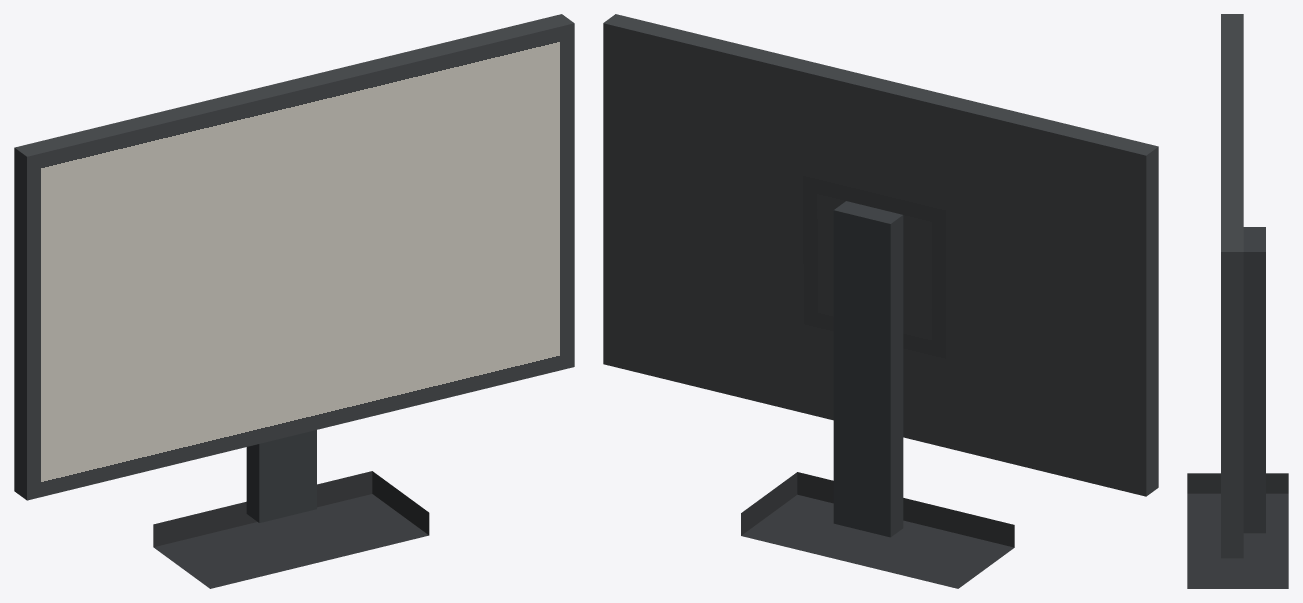
File: monitor.glb
The picture shows the model from 3 angles, left to right: view 1: azimuth 30°, elevation 25°; view 2: azimuth 150°, elevation 25°; view 3: azimuth 270°, elevation 25°; orthographic projection. The views are drawn at different scales.
Parts seen in each view (by area): view 1: monitor; view 2: monitor; view 3: monitor.
Part boxes in pixels (x1,y1,x2,y2): monitor: (14,14,574,588); monitor: (603,14,1158,588); monitor: (1187,14,1288,588).
Bounding box in the file's own units: 0.5 × 0.4 × 0.09.
1 material, 1 textured.
